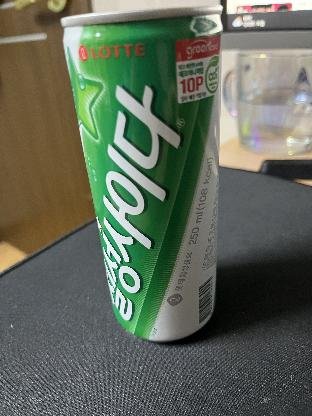Can: (59, 2, 225, 345)
